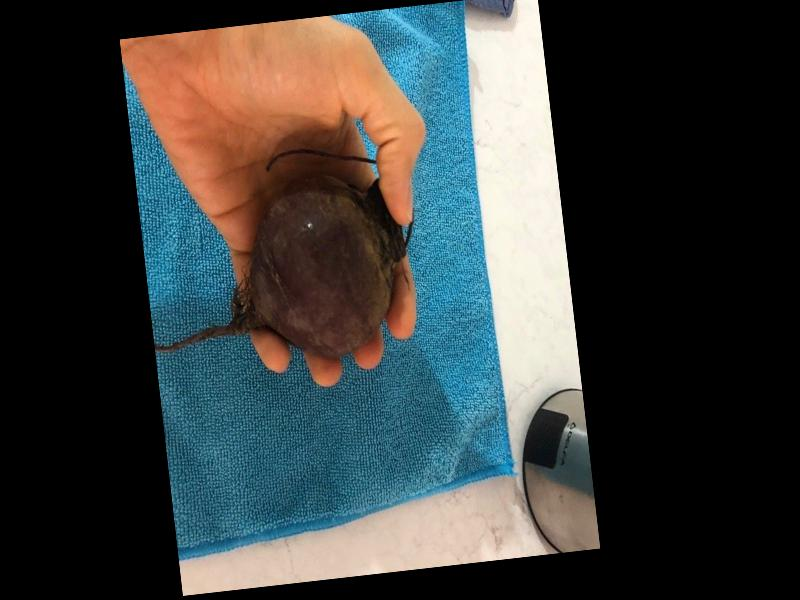Beet: (134, 138, 428, 378)
